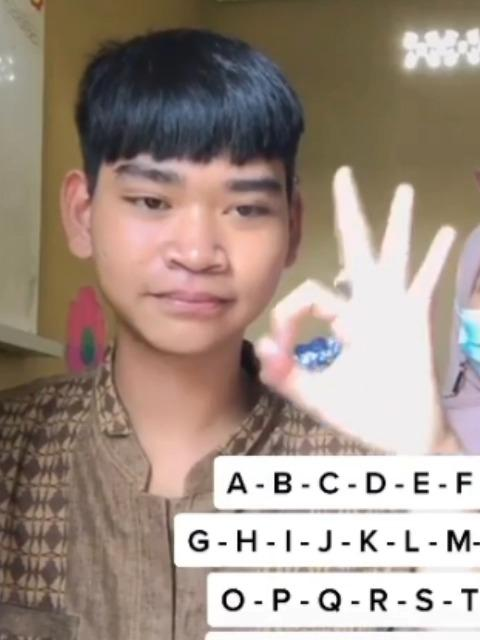F: (250, 162, 454, 448)
